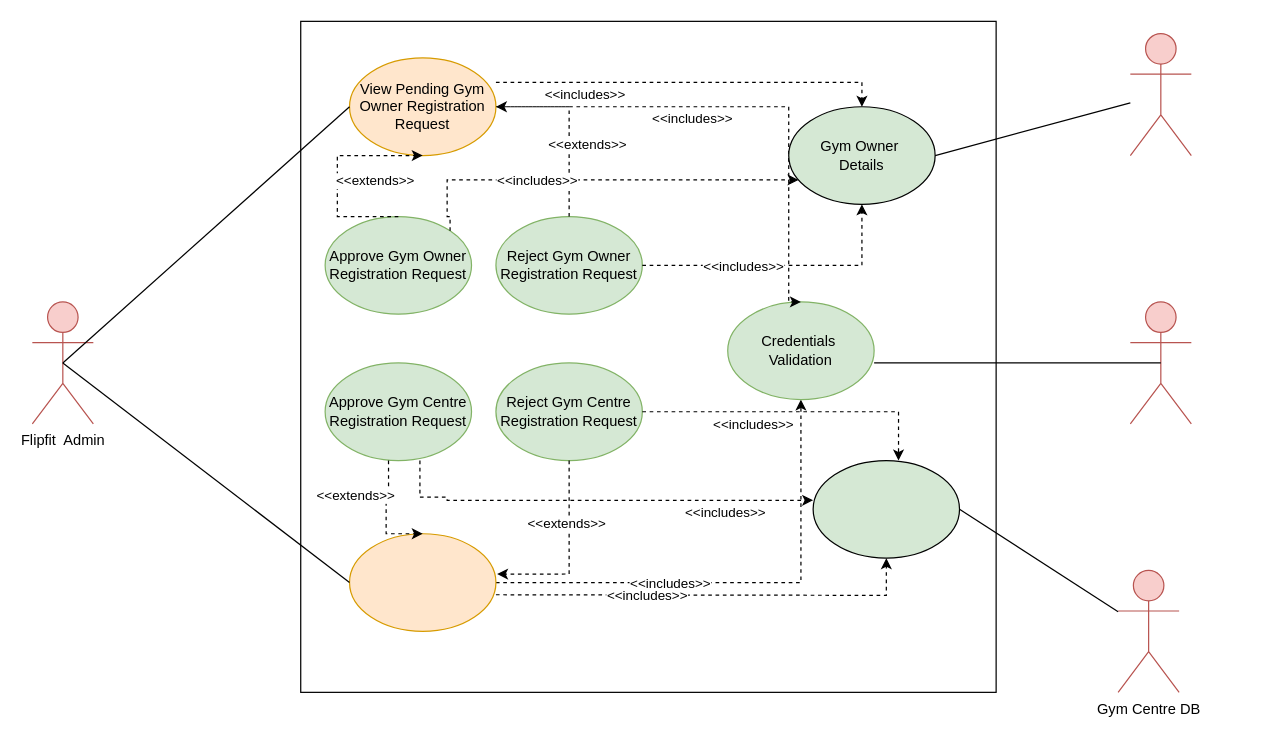
Image size: 1271x739. Some labels were removed from this diagram. Each missing label, with the centre of its shape:
Credentials DB: [1160,362]
Gym Centre Details: [886,508]
Gym Owner registration DB: [1160,94]
View Pending Gym Centre Registration Request: [422,582]
